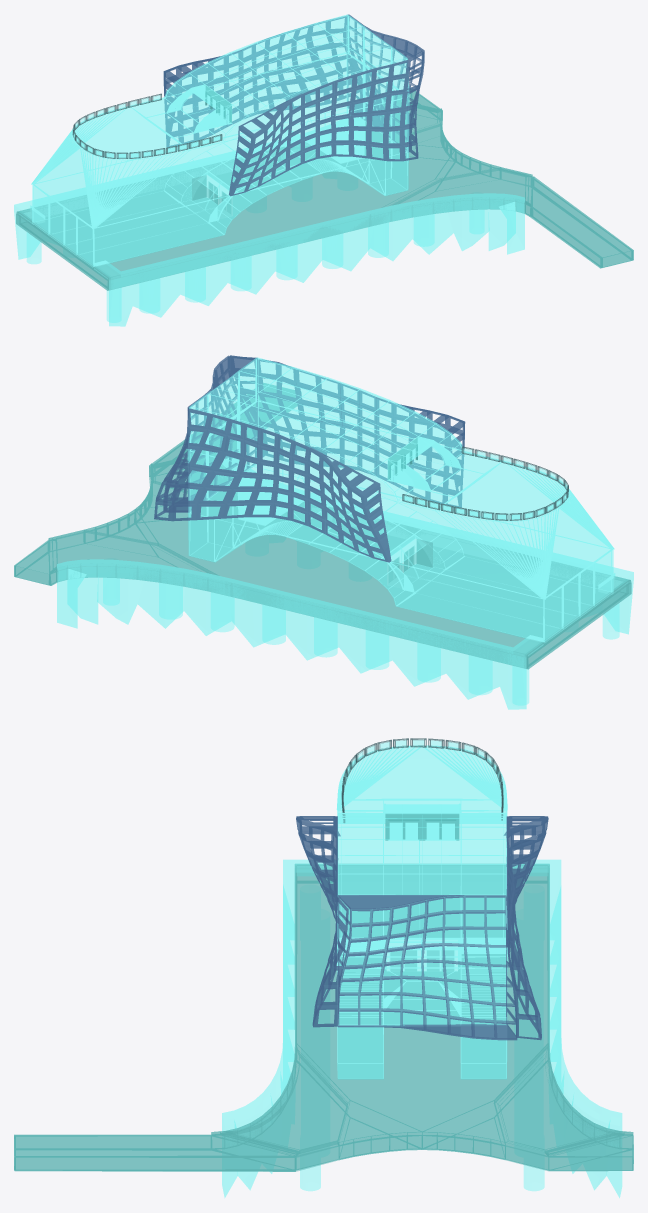
File: ar android fainal (1).glb
The picture shows the model from 3 angles, top to bottom: view 1: azimuth 30°, elevation 25°; view 2: azimuth 150°, elevation 25°; view 3: azimuth 270°, elevation 25°; orthographic projection. The views are drawn at different scales.
Visible parts, largest first — view 1: Cube.022, Plane.017, Plane.015, Plane.003, Plane.013, Circle.001, Plane.014, Cube.010, Cube.021, Cube.006; view 2: Cube.022, Plane.017, Plane.015, Plane.013, Plane.003, Circle.001, Plane.014, Cube.010, Cube.021, Cube.006; view 3: Plane.017, Cube.022, Plane.015, Plane.014, Plane.013, Plane.003, Cube.010, Cube.020, Circle.001, Cube.011, Cube.006.
Part boxes in pixels (x1,y1,x2,y2): Cube.022: [31, 14, 409, 267]; Plane.017: [16, 91, 633, 290]; Plane.015: [14, 99, 524, 326]; Plane.003: [229, 51, 424, 196]; Plane.013: [163, 16, 360, 147]; Circle.001: [27, 210, 483, 322]; Plane.014: [347, 14, 424, 152]; Cube.010: [72, 93, 222, 158]; Cube.021: [192, 175, 232, 218]; Cube.006: [73, 95, 220, 157]; Cube.022: [187, 357, 614, 642]; Plane.017: [14, 383, 631, 669]; Plane.015: [57, 458, 633, 709]; Plane.013: [154, 408, 391, 562]; Plane.003: [230, 355, 465, 507]; Circle.001: [103, 578, 619, 704]; Plane.014: [163, 355, 257, 512]; Cube.010: [402, 446, 568, 520]; Cube.021: [387, 539, 432, 587]; Cube.006: [404, 448, 568, 519]; Plane.017: [14, 864, 633, 1171]; Cube.022: [337, 745, 507, 1079]; Plane.015: [222, 859, 622, 1197]; Plane.014: [338, 895, 517, 1040]; Plane.013: [504, 816, 548, 1040]; Plane.003: [296, 816, 348, 1027]; Cube.010: [341, 738, 503, 822]; Cube.020: [385, 814, 459, 840]; Circle.001: [300, 1165, 544, 1190]; Cube.011: [390, 824, 454, 838]; Cube.006: [344, 740, 501, 790].
Size of the model in its own units: 0.8878 by 0.3573 by 0.7979.
